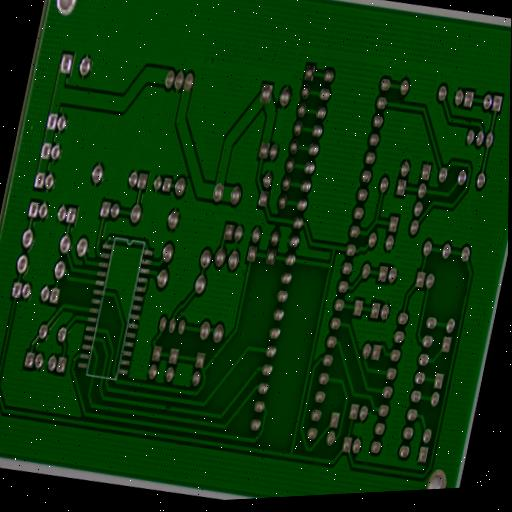mouse_bite: (163, 401, 173, 415), (462, 283, 470, 299), (465, 117, 473, 128)
